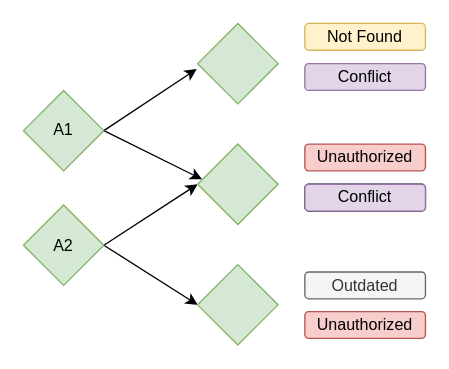
This 449x369 diagram has some shape labels left out. The shapes that lost their labels are listed below. From the top down, each one's centre as x and y in pixels, then its label:
the point at 237,63: B1
the point at 237,183: B2
the point at 237,304: B3
